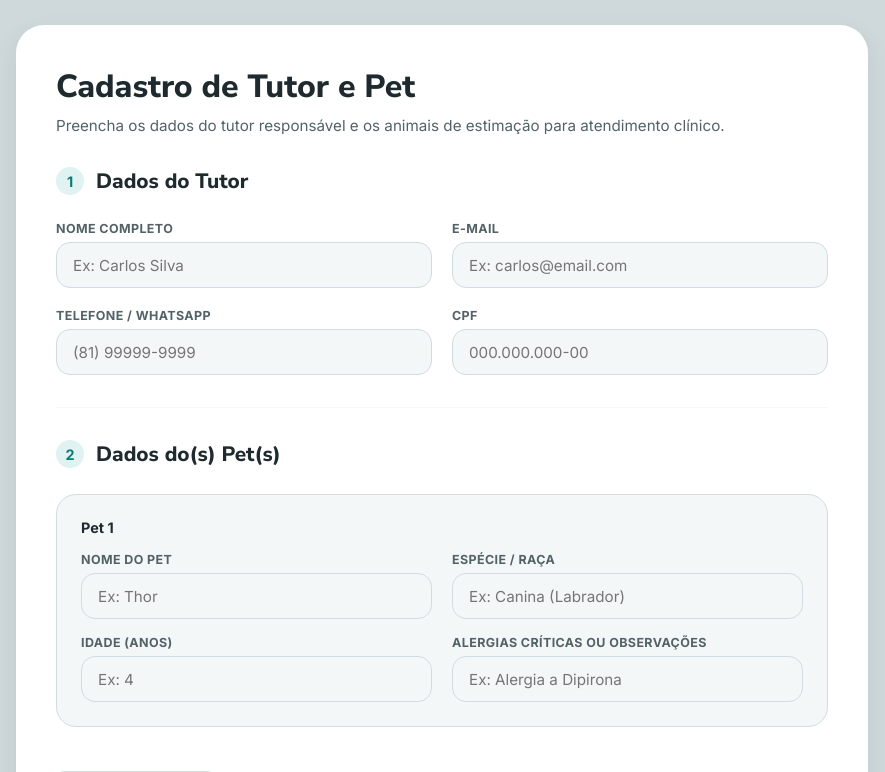
Test: cadastro formata numeros e envia dados normalizados preservando idade zero
Type " Ana " into the field with placeholder "Ex: Carlos Silva" at [244, 265], box [71,243,417,287]
Type " ana@exemplo.com " into the field labelled "E-MAIL" at [640, 265], box [467,243,813,287]
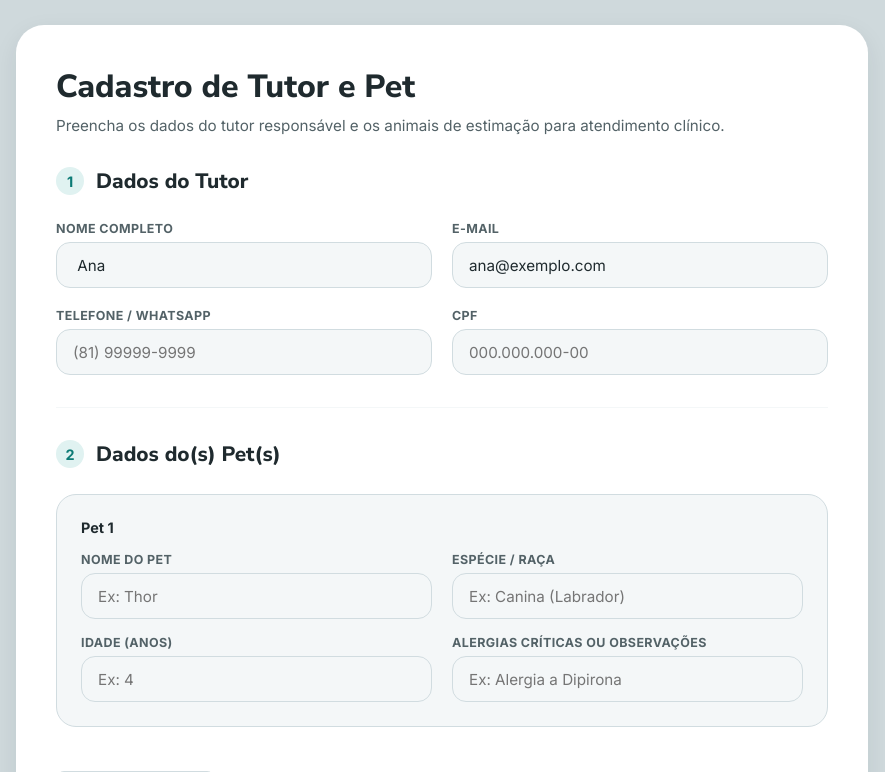
Type "11999998888" into the field labelled "TELEFONE / WHATSAPP" at [244, 352], box [71,330,417,374]
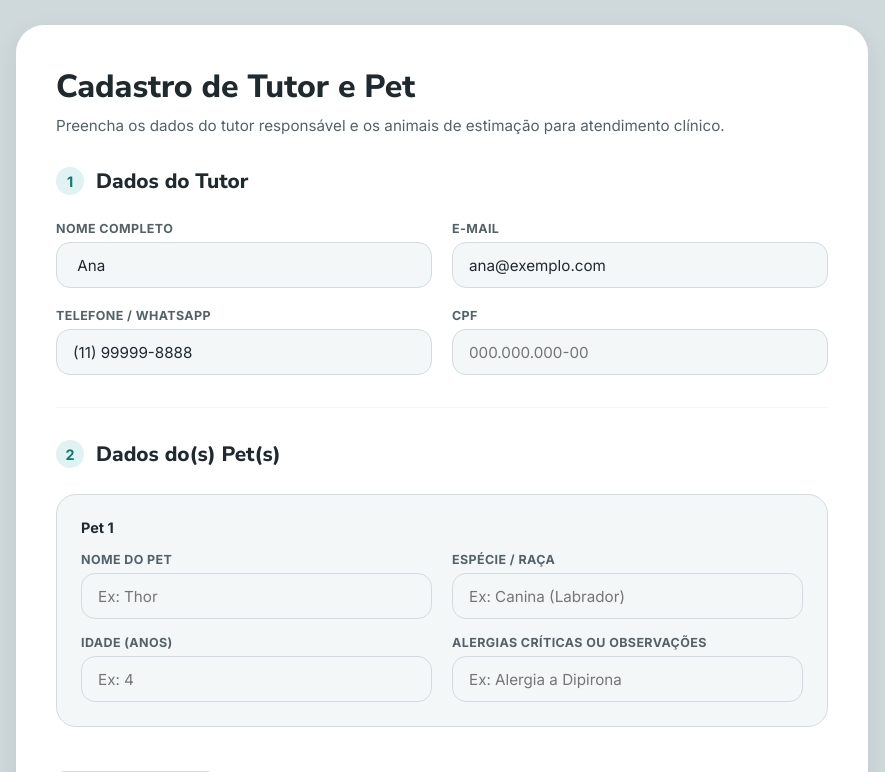
Type "52998224725" into the field with placeholder "000.000.000-00" at [640, 352], box [467,330,813,374]
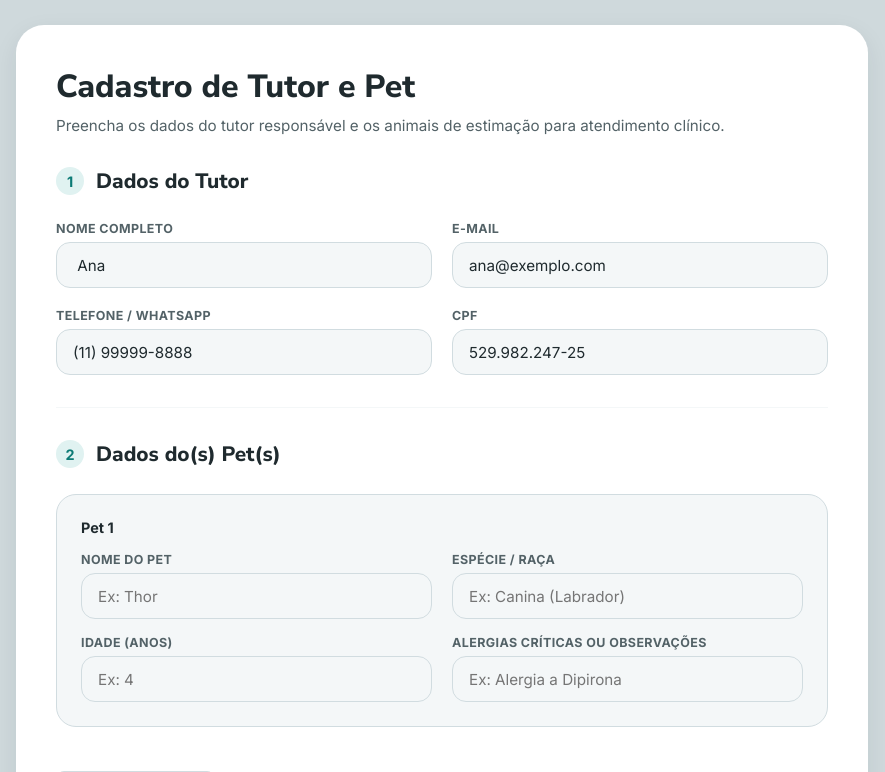
Type " Luna " into the field with placeholder "Ex: Thor" at [256, 596], box [96,574,417,618]
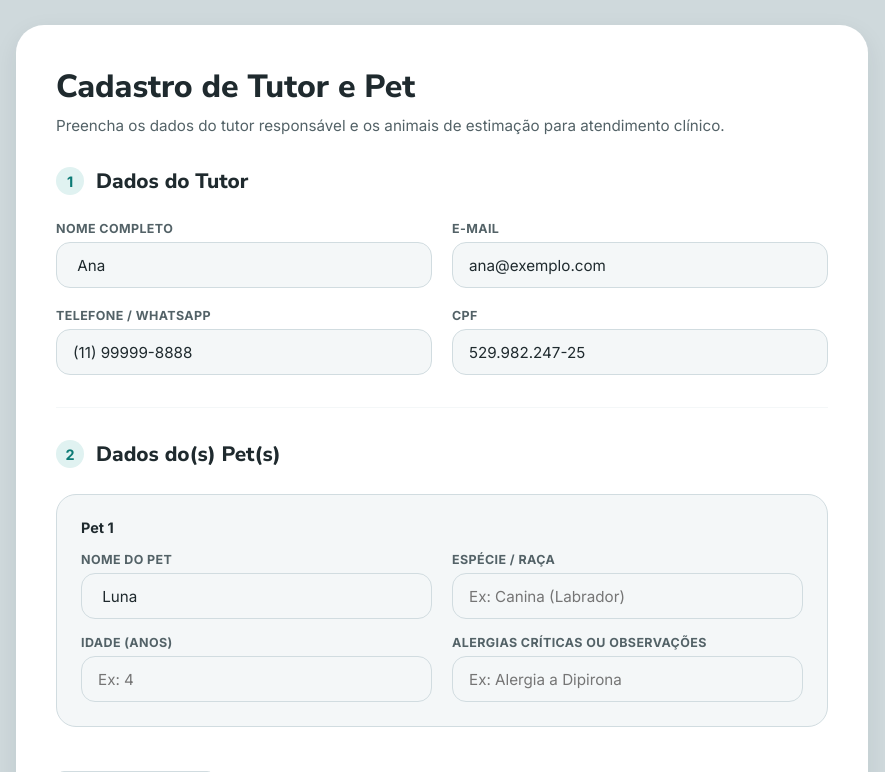
Type "0" into the number field labelled "IDADE (ANOS)" at [256, 679], box [96,657,417,701]
(page scrolled)
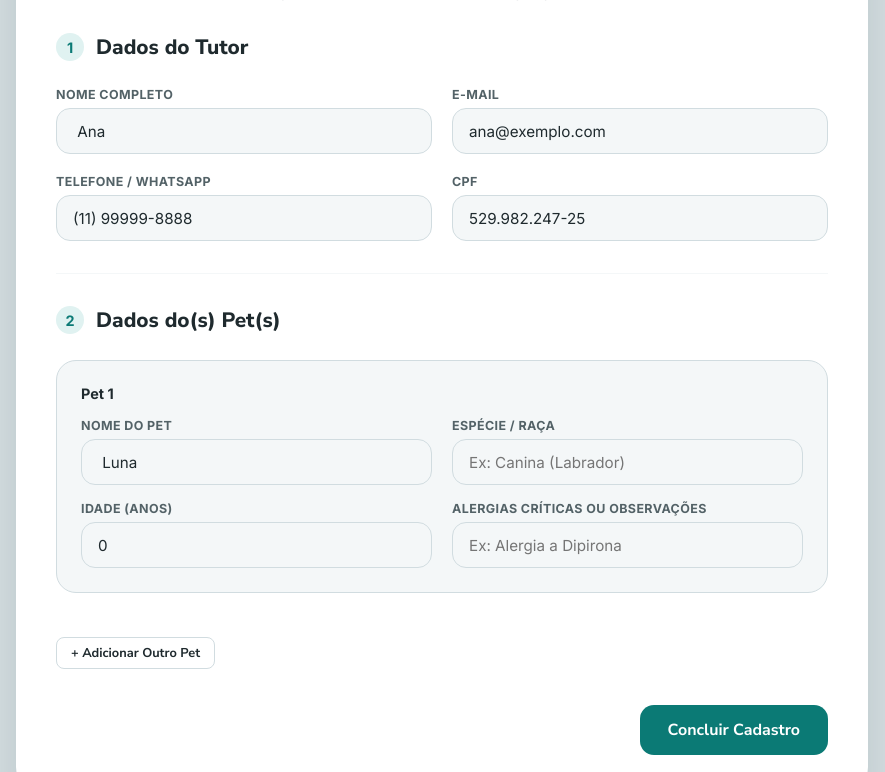
Result: the field labelled "TELEFONE / WHATSAPP" holds "(11) 99999-8888" at [71,196,417,240]
Result: the field with placeholder "000.000.000-00" holds "529.982.247-25" at [467,196,813,240]
Submit the form
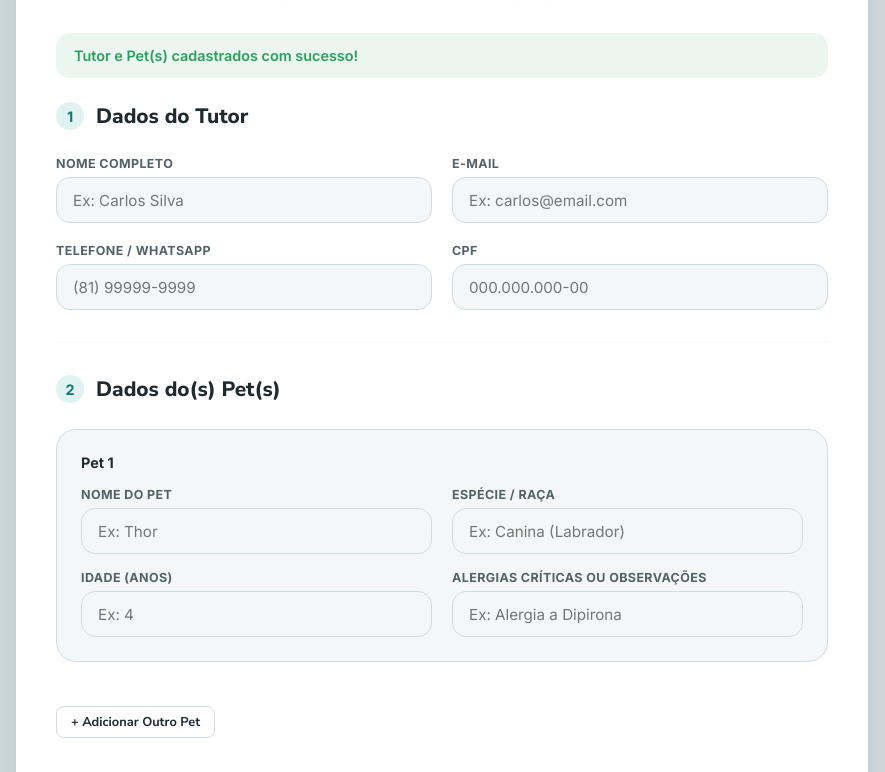
Result: the text "cadastrados com sucesso" is shown at [74,47,358,64]
